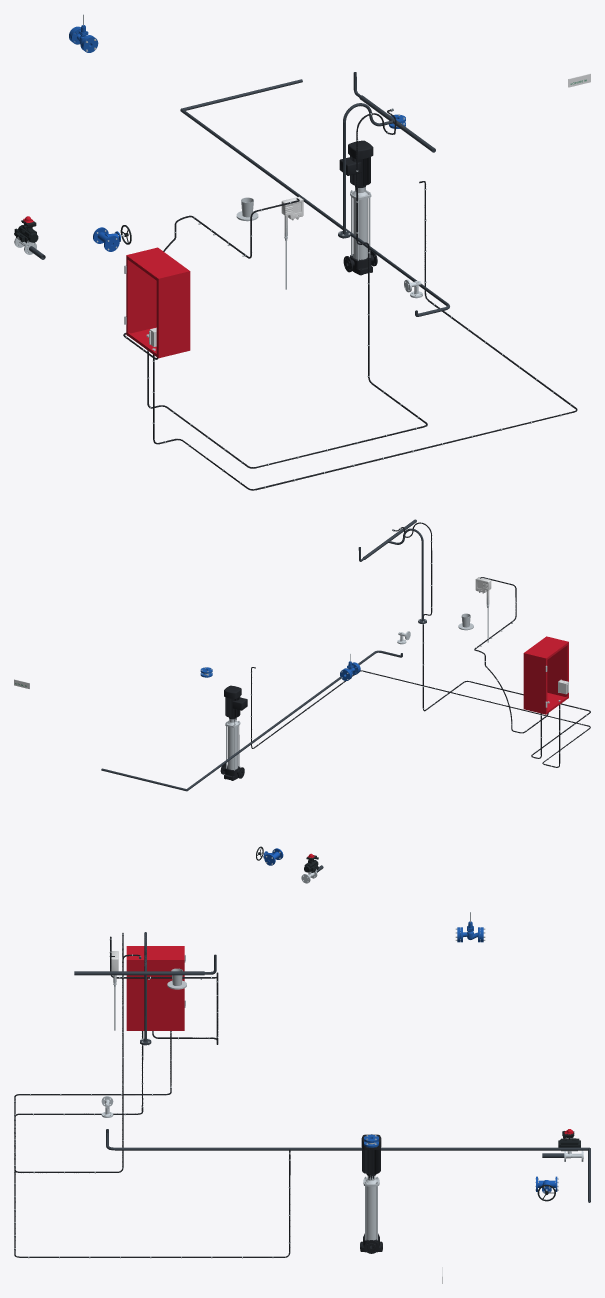
Rendered from s4000-4-CLD--lpS.glb.
The picture shows the model from 3 angles, top to bottom: view 1: azimuth 30°, elevation 25°; view 2: azimuth 150°, elevation 25°; view 3: azimuth 270°, elevation 25°; orthographic projection. The views are drawn at different scales.
Visible parts, largest first — view 1: control_cabinet / control_cabinet_0.npz, wiring_pump_1 / black, wiring_pressure_switch_3 / black, tds_common / dark, pressure_header / dark, pump_2 CAD solid 15, pump_2 CAD solid 2, bcv7432 / bcv7432_0.npz, lcs600 CAD solid 0; view 2: control_cabinet / control_cabinet_0.npz, wiring_pump_1 / black, wiring_pressure_switch_3 / black, pressure_header / dark, tds_common / dark, pump_2 CAD solid 15; view 3: control_cabinet / control_cabinet_0.npz, tds_common / dark, wiring_pressure_switch_3 / black, wiring_pump_1 / black, pressure_header / dark, pump_2 CAD solid 15, pump_2 CAD solid 2, wiring_lcs600 / black, bcv7432 / bcv7432_0.npz.
Boxes of the visible parts, <box> form: control_cabinet / control_cabinet_0.npz: <box>124,247,190,358</box>; wiring_pump_1 / black: <box>153,181,577,490</box>; wiring_pressure_switch_3 / black: <box>147,109,427,468</box>; tds_common / dark: <box>180,108,449,316</box>; pressure_header / dark: <box>338,72,435,238</box>; pump_2 CAD solid 15: <box>339,140,373,186</box>; pump_2 CAD solid 2: <box>353,198,367,259</box>; bcv7432 / bcv7432_0.npz: <box>14,216,38,254</box>; lcs600 CAD solid 0: <box>281,196,303,289</box>; control_cabinet / control_cabinet_0.npz: <box>523,636,568,714</box>; wiring_pump_1 / black: <box>251,667,590,767</box>; wiring_pressure_switch_3 / black: <box>394,522,590,758</box>; pressure_header / dark: <box>358,519,426,623</box>; tds_common / dark: <box>186,650,402,791</box>; pump_2 CAD solid 15: <box>224,685,247,718</box>; control_cabinet / control_cabinet_0.npz: <box>126,946,185,1030</box>; tds_common / dark: <box>106,1129,588,1150</box>; wiring_pressure_switch_3 / black: <box>14,933,171,1172</box>; wiring_pump_1 / black: <box>14,1031,290,1257</box>; pressure_header / dark: <box>74,932,216,1045</box>; pump_2 CAD solid 15: <box>361,1134,381,1175</box>; pump_2 CAD solid 2: <box>366,1186,376,1240</box>; wiring_lcs600 / black: <box>110,936,218,1044</box>; bcv7432 / bcv7432_0.npz: <box>558,1129,583,1161</box>.
Bounding box in the file's own units: 5.8 × 2.74 × 5.29.
